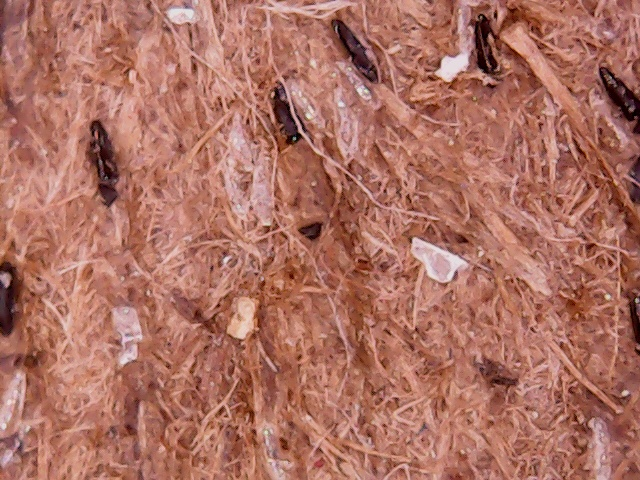full: (327, 15, 386, 84), (260, 77, 313, 145), (79, 115, 125, 192), (595, 56, 640, 131), (466, 13, 503, 79)
